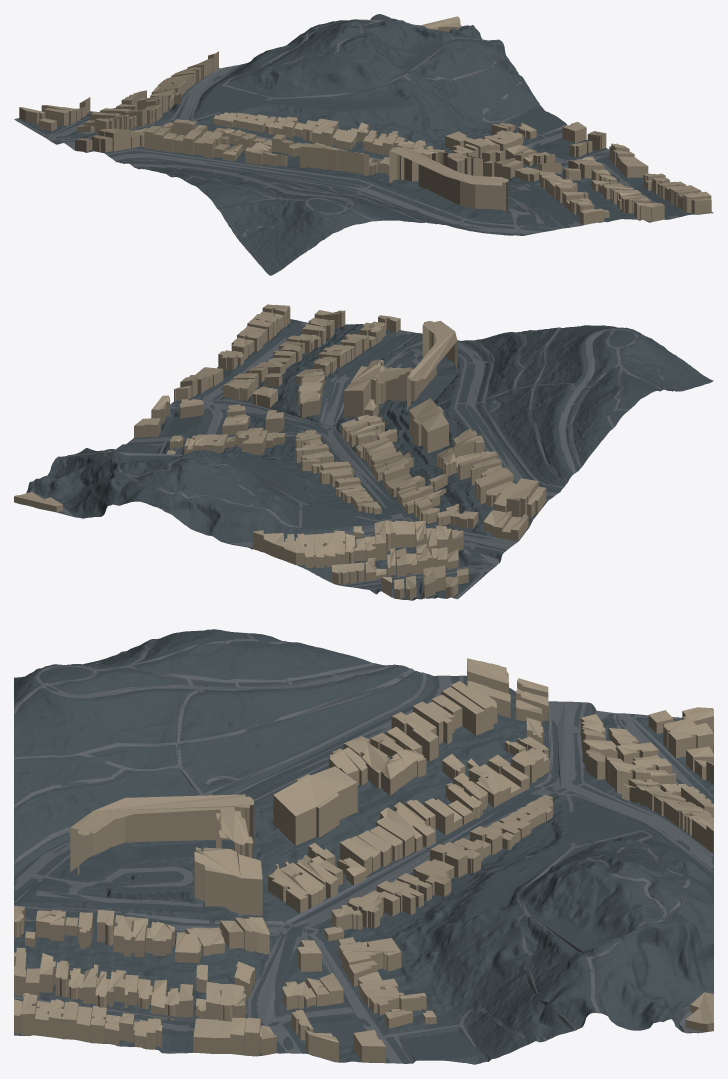
Rendered from epsg26910-1430-10885.lod0.glb.
The picture shows the model from 3 angles, top to bottom: view 1: azimuth 30°, elevation 25°; view 2: azimuth 150°, elevation 25°; view 3: azimuth 270°, elevation 25°; orthographic projection. The views are drawn at different scales.
Visible parts, largest first — view 1: epsg26910-1430-10885-lod0; view 2: epsg26910-1430-10885-lod0; view 3: epsg26910-1430-10885-lod0.
Boxes of the visible parts, <box> form: epsg26910-1430-10885-lod0: <box>14,14,713,275</box>; epsg26910-1430-10885-lod0: <box>14,304,713,600</box>; epsg26910-1430-10885-lod0: <box>14,629,713,1064</box>.
Size of the model in its own units: 384 by 87.29 by 384.
